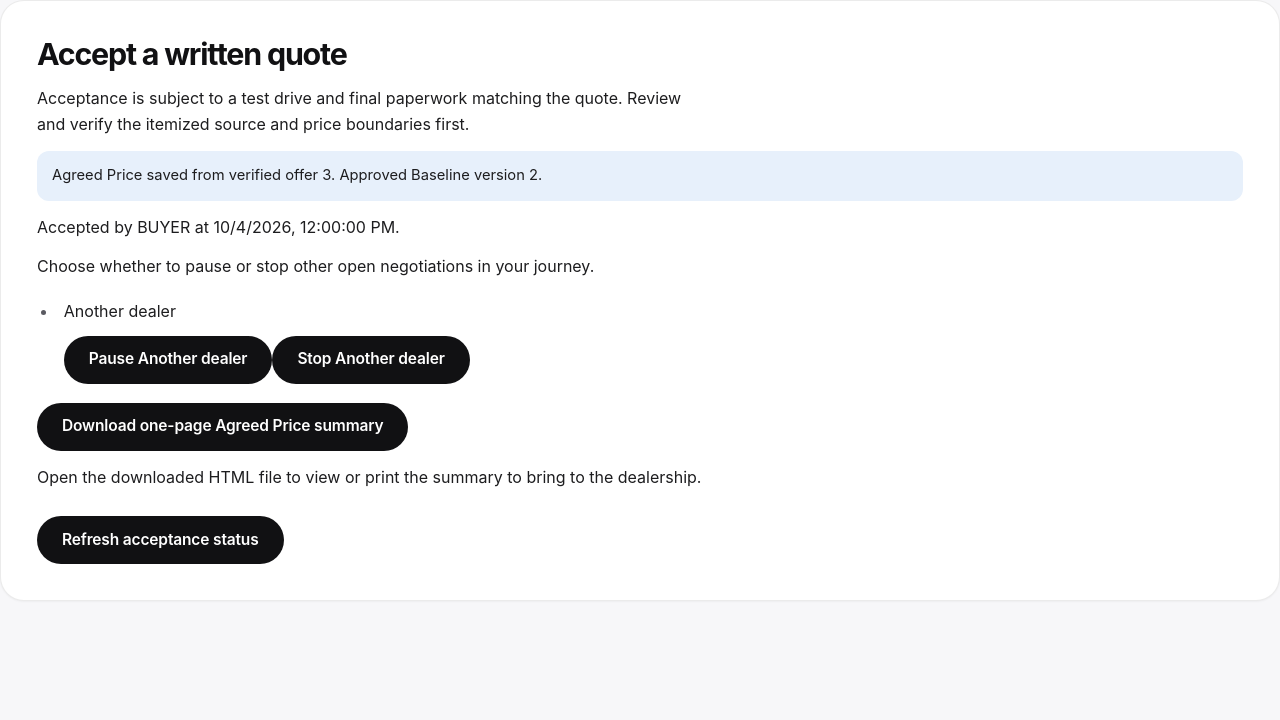
Scenario: offers explicit pause and stop choices only for other negotiations returned by the journey seam
expect the button "Stop Another dealer" is enabled: met, box [272,336,470,384]
Step 1. Click the button "Pause Another dealer" → x=168, y=360, box [64,336,272,384]
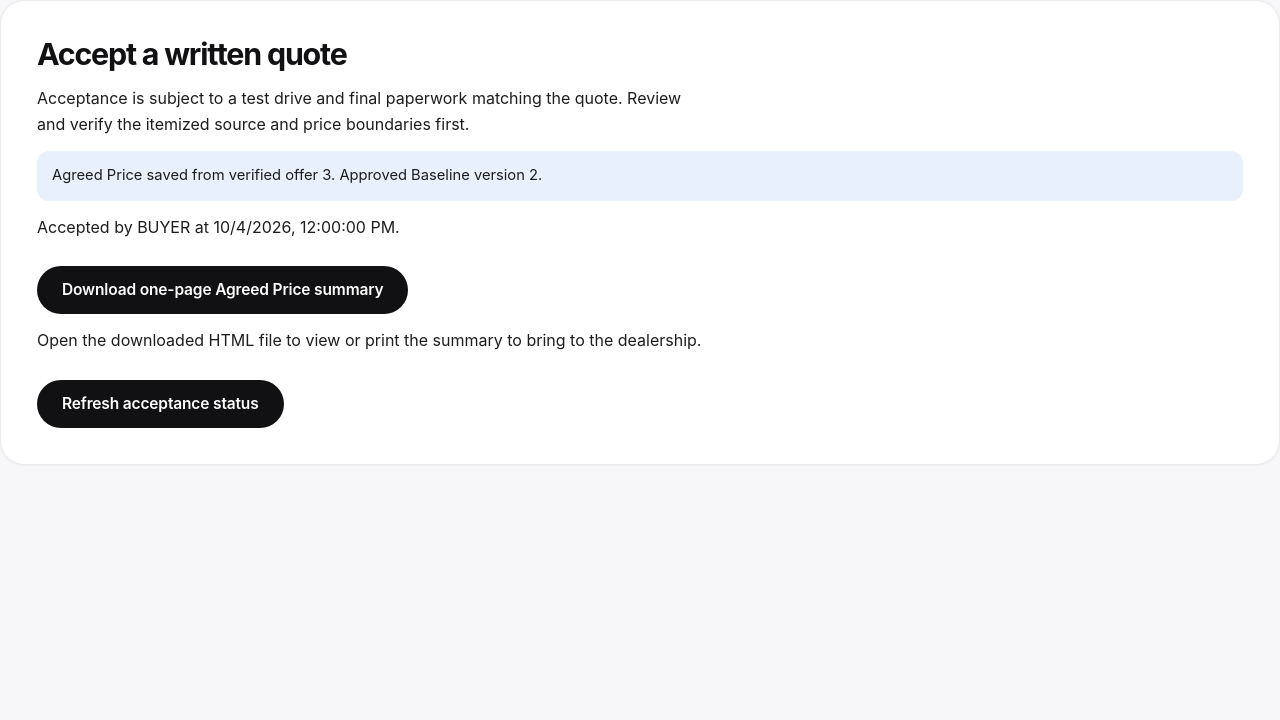
expect the button "Pause Another dealer" is gone: met
